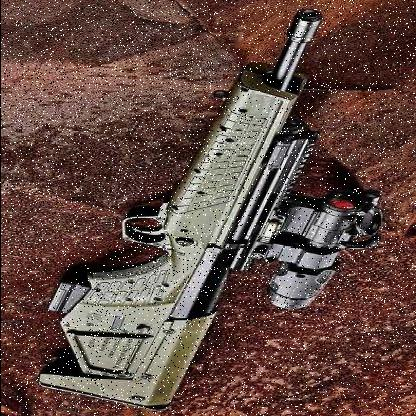rifle: (28, 0, 376, 413)
